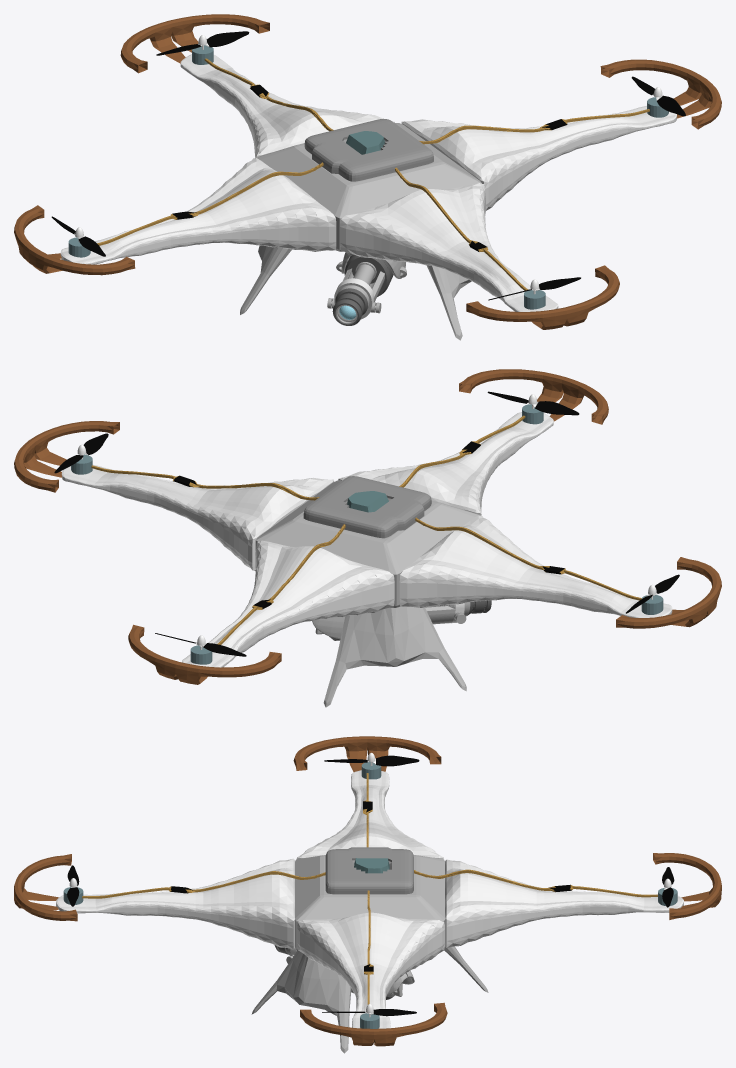
Rendered from drones.glb.
3 views of the same model, one above another, from view 1: azimuth 30°, elevation 25°; view 2: azimuth 150°, elevation 25°; view 3: azimuth 270°, elevation 25° (orthographic). The views are drawn at different scales.
Visible parts, largest first — view 1: pCube1.003, pCube1, pCube2, pCube1.001, pCube1.002, pCube3, pPipe3, pPipe2, pPipe1, pPipe4, planarTrimmedSurface3, planarTrimmedSurface5 (+4 smaller); view 2: pCube2, pCube1.003, pCube1.002, pCube1.001, pCube1, pCube3, pPipe1, pPipe2, pPipe3, pPipe4, planarTrimmedSurface3, planarTrimmedSurface5 (+2 smaller); view 3: pCube2, pCube1.001, pCube1, pCube1.002, pCube3, pCube1.003, pPipe4, pPipe2, pPipe1, pPipe3, planarTrimmedSurface6, planarTrimmedSurface4.
Part boxes in pixels (left/top/right/bottom): pCube1.003: left=60, top=158, right=336, bottom=264; pCube1: left=340, top=183, right=558, bottom=311; pCube2: left=240, top=123, right=481, bottom=340; pCube1.001: left=401, top=106, right=676, bottom=210; pCube1.002: left=180, top=54, right=394, bottom=158; pCube3: left=304, top=118, right=433, bottom=181; pPipe3: left=120, top=14, right=269, bottom=73; pPipe2: left=600, top=59, right=721, bottom=129; pPipe1: left=466, top=265, right=619, bottom=329; pPipe4: left=14, top=205, right=135, bottom=275; planarTrimmedSurface3: left=97, top=162, right=323, bottom=245; planarTrimmedSurface5: left=419, top=109, right=649, bottom=144; pCube2: left=255, top=480, right=478, bottom=707; pCube1.003: left=399, top=515, right=672, bottom=617; pCube1.002: left=182, top=540, right=394, bottom=667; pCube1.001: left=61, top=464, right=334, bottom=570; pCube1: left=338, top=412, right=553, bottom=515; pCube3: left=303, top=476, right=431, bottom=538; pPipe1: left=459, top=369, right=608, bottom=424; pPipe2: left=14, top=421, right=119, bottom=492; pPipe3: left=128, top=624, right=281, bottom=684; pPipe4: left=616, top=557, right=721, bottom=628; planarTrimmedSurface3: left=415, top=517, right=641, bottom=600; planarTrimmedSurface5: left=91, top=465, right=319, bottom=500; pCube2: left=251, top=855, right=488, bottom=1053; pCube1.001: left=297, top=912, right=444, bottom=1028; pCube1: left=56, top=858, right=294, bottom=949; pCube1.002: left=445, top=859, right=683, bottom=947; pCube3: left=325, top=847, right=413, bottom=894; pCube1.003: left=296, top=770, right=443, bottom=859; pPipe4: left=293, top=736, right=441, bottom=771; pPipe2: left=300, top=1002, right=447, bottom=1046; pPipe1: left=14, top=854, right=77, bottom=921; pPipe3: left=653, top=853, right=721, bottom=919; planarTrimmedSurface6: left=414, top=869, right=657, bottom=897; planarTrimmedSurface4: left=82, top=871, right=325, bottom=898.
Size of the model in its own units: 0.1402 by 0.0311 by 0.1413.
